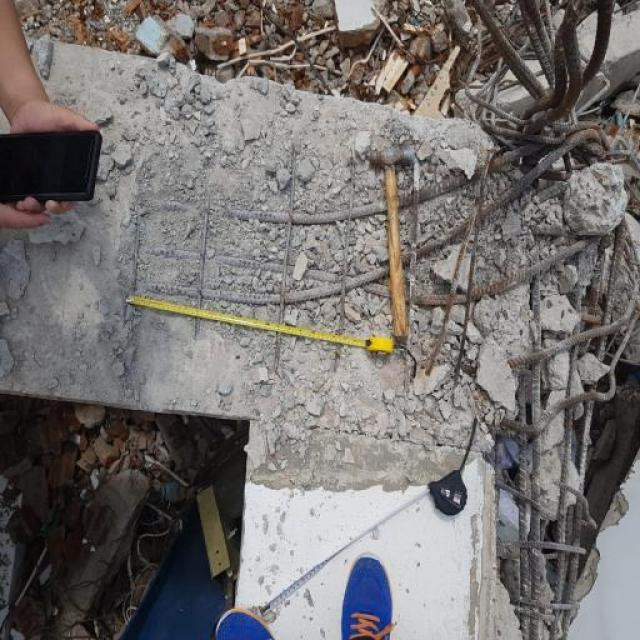D0w0: (131, 132, 639, 636)
